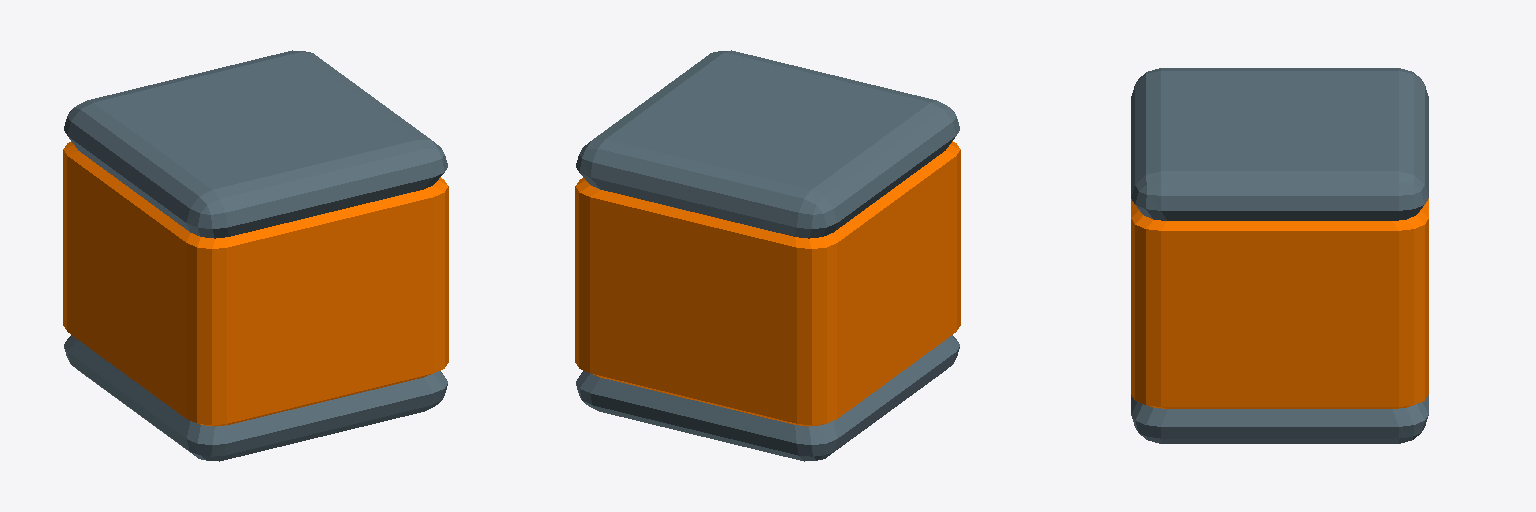
Rendered from powerupBlock_teamYellow.obj.
3 views of the same model, side by side, from view 1: azimuth 30°, elevation 25°; view 2: azimuth 150°, elevation 25°; view 3: azimuth 270°, elevation 25° (orthographic).
Visible parts, largest first — view 1: powerupBlock_teamYellow_Cube.413; view 2: powerupBlock_teamYellow_Cube.413; view 3: powerupBlock_teamYellow_Cube.413.
Boxes of the visible parts, <box> form: powerupBlock_teamYellow_Cube.413: <box>63,50,448,461</box>; powerupBlock_teamYellow_Cube.413: <box>575,50,960,461</box>; powerupBlock_teamYellow_Cube.413: <box>1131,68,1428,443</box>.
Size of the model in its own units: 1 by 1 by 1.